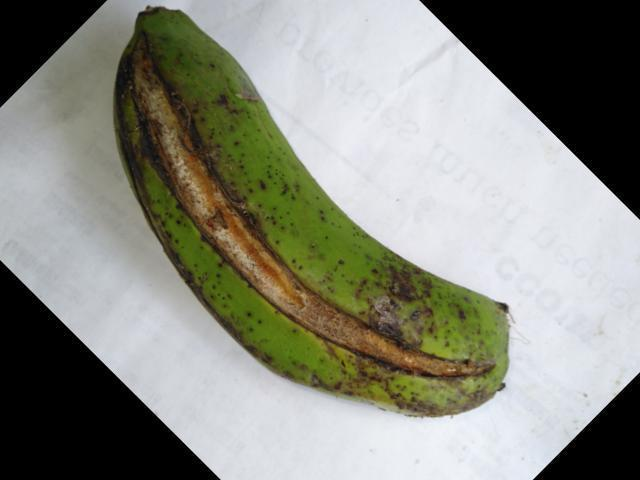rotten: (111, 48, 501, 403)
